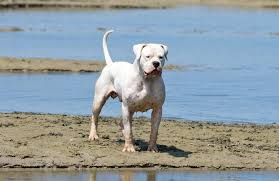dog: (90, 20, 172, 157)
